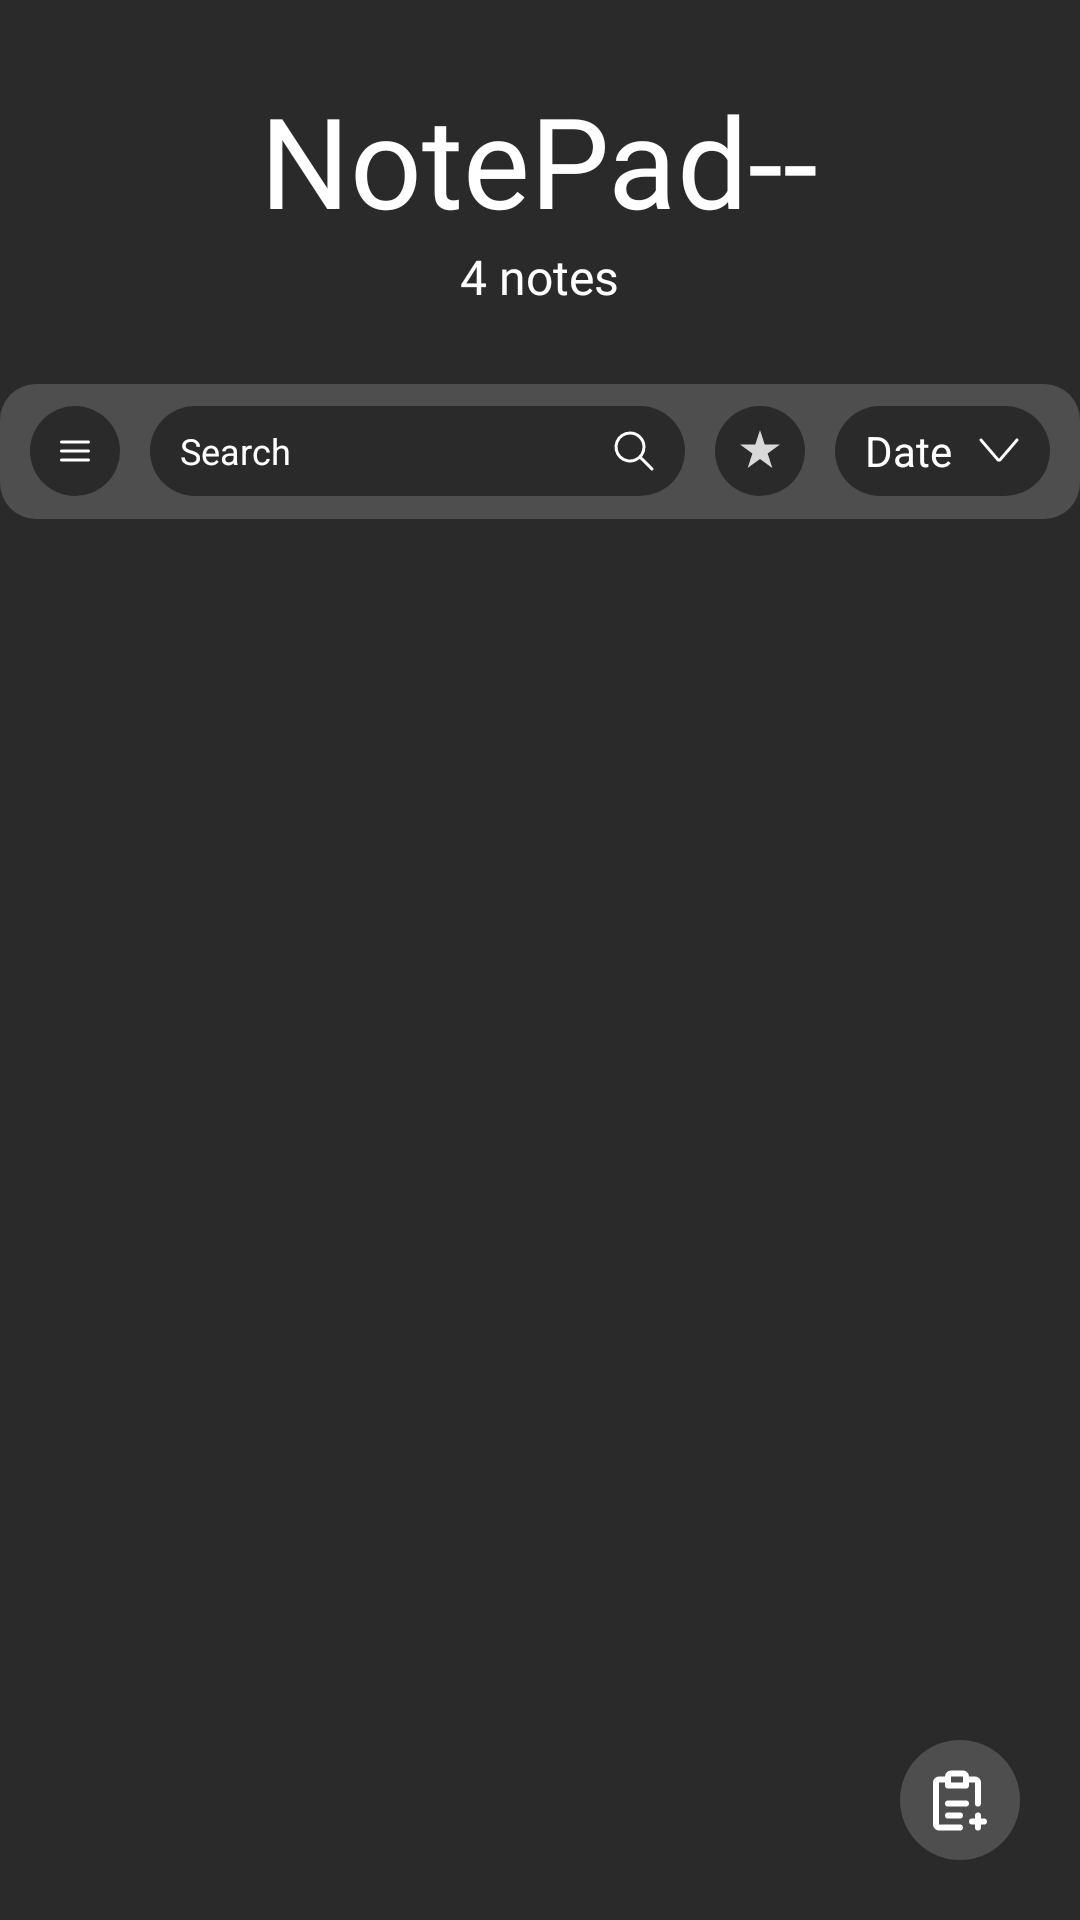

Screen size 1080w x 1920h. Icon name, then its box in pixels as [left=x1, top=y1, right=x2, bottom=y2]:
arrow: [left=979, top=438, right=1019, bottom=462]
menu: [left=30, top=406, right=120, bottom=496]
newnote: [left=900, top=1740, right=1020, bottom=1860]
star: [left=715, top=406, right=805, bottom=496]
